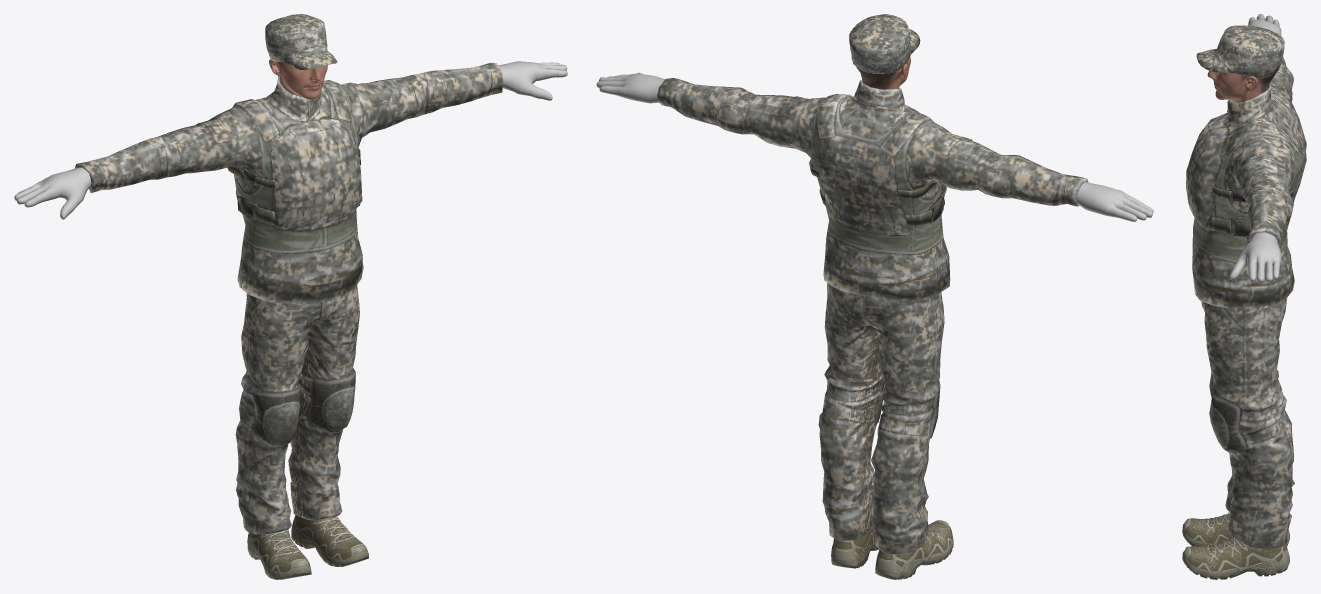
Rendered from Marine.obj.
3 views of the same model, side by side, from view 1: azimuth 30°, elevation 25°; view 2: azimuth 150°, elevation 25°; view 3: azimuth 270°, elevation 25° (orthographic).
Parts seen in each view (by area): view 1: Tops, Bottoms, Shoes, Gloves, Hats, Body; view 2: Tops, Bottoms, Shoes, Gloves, Hats, Body; view 3: Tops, Bottoms, Shoes, Hats, Gloves, Body.
Boxes of the visible parts, left/top/right/bottom form: Tops: left=75, top=63, right=503, bottom=304; Bottoms: left=235, top=285, right=359, bottom=534; Shoes: left=247, top=515, right=368, bottom=579; Gloves: left=14, top=61, right=567, bottom=219; Hats: left=265, top=14, right=337, bottom=70; Body: left=269, top=59, right=327, bottom=99; Tops: left=657, top=78, right=1088, bottom=300; Bottoms: left=818, top=283, right=944, bottom=554; Shoes: left=831, top=520, right=953, bottom=579; Gloves: left=596, top=72, right=1153, bottom=221; Hats: left=849, top=14, right=920, bottom=73; Body: left=851, top=56, right=910, bottom=89; Tops: left=1186, top=33, right=1306, bottom=308; Bottoms: left=1201, top=297, right=1294, bottom=548; Shoes: left=1182, top=512, right=1289, bottom=579; Hats: left=1196, top=25, right=1284, bottom=78; Gloves: left=1229, top=14, right=1281, bottom=282; Body: left=1207, top=71, right=1276, bottom=102.
Size of the model in its own units: 194 by 181 by 38.63.
